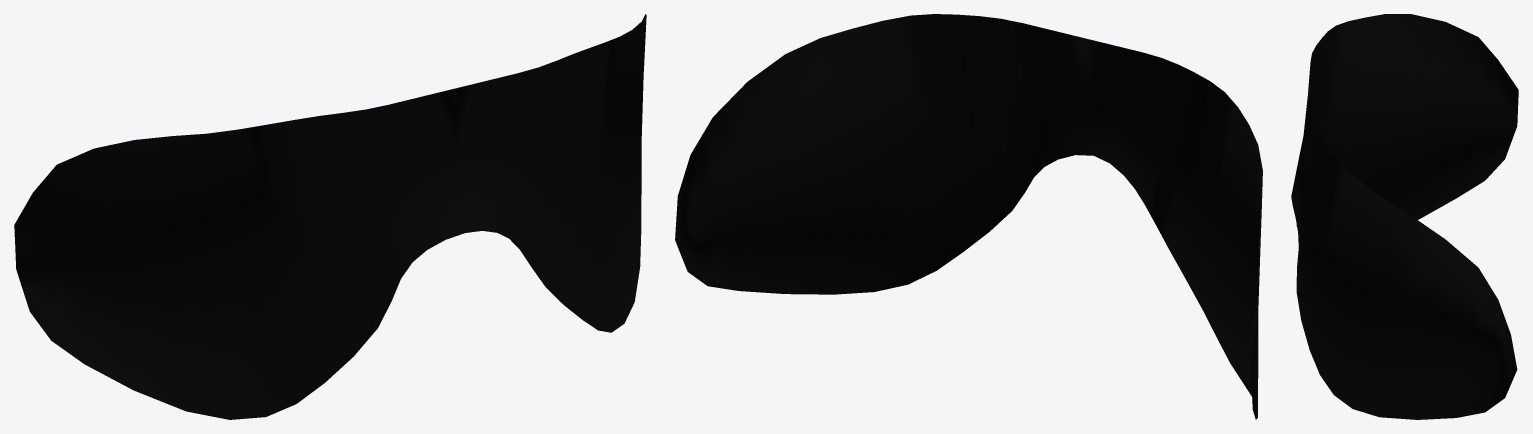
The model's file is WrenchMask_Part3.obj.
The picture shows the model from 3 angles, left to right: view 1: azimuth 30°, elevation 25°; view 2: azimuth 150°, elevation 25°; view 3: azimuth 270°, elevation 25°; orthographic projection. The views are drawn at different scales.
Parts seen in each view (by area): view 1: wrenchmaskf_wrenchmask_ref.003; view 2: wrenchmaskf_wrenchmask_ref.003; view 3: wrenchmaskf_wrenchmask_ref.003.
Part boxes in pixels (x1,y1,x2,y2): wrenchmaskf_wrenchmask_ref.003: [14, 14, 646, 419]; wrenchmaskf_wrenchmask_ref.003: [675, 14, 1262, 419]; wrenchmaskf_wrenchmask_ref.003: [1291, 14, 1518, 419].
Bounding box in the file's own units: 7.07 × 3.29 × 2.78.
